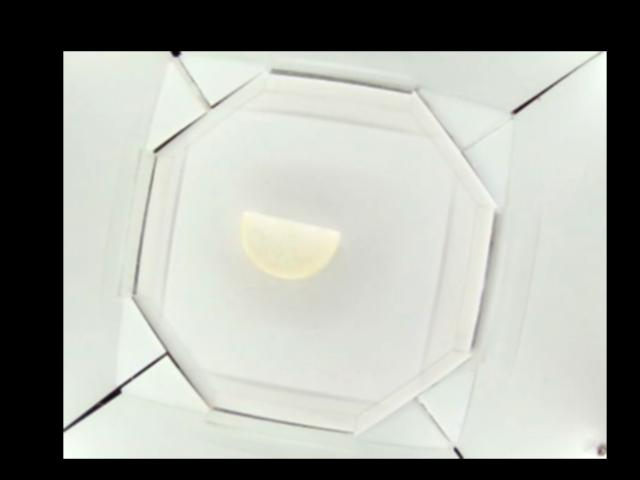Mooli: (238, 210, 339, 280)
